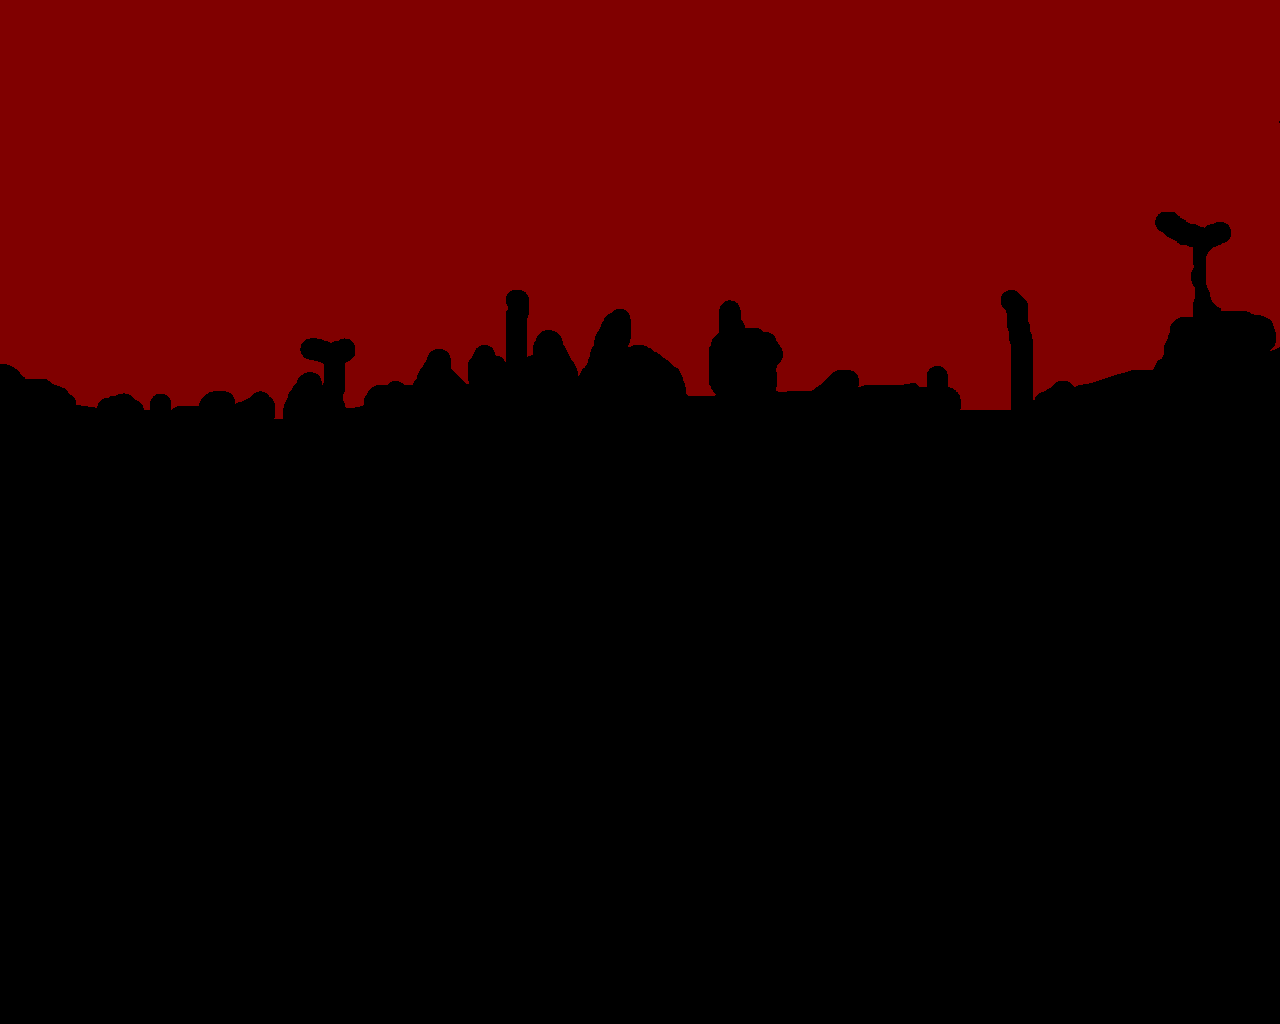Sky: (1, 1, 1279, 419)
